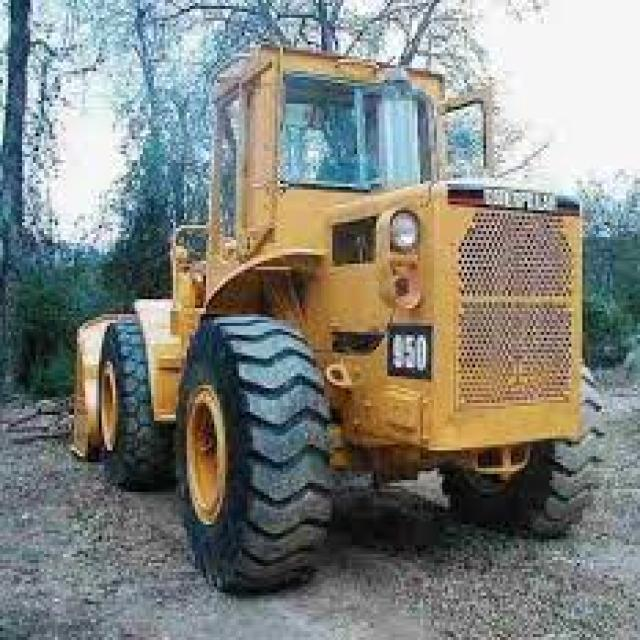buldozerpayloadergrader: (65, 35, 613, 591)
